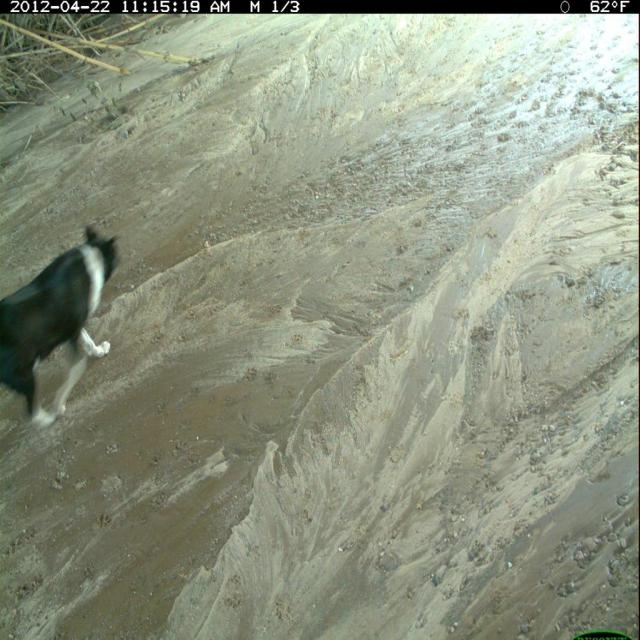dog: (4, 225, 123, 435)
